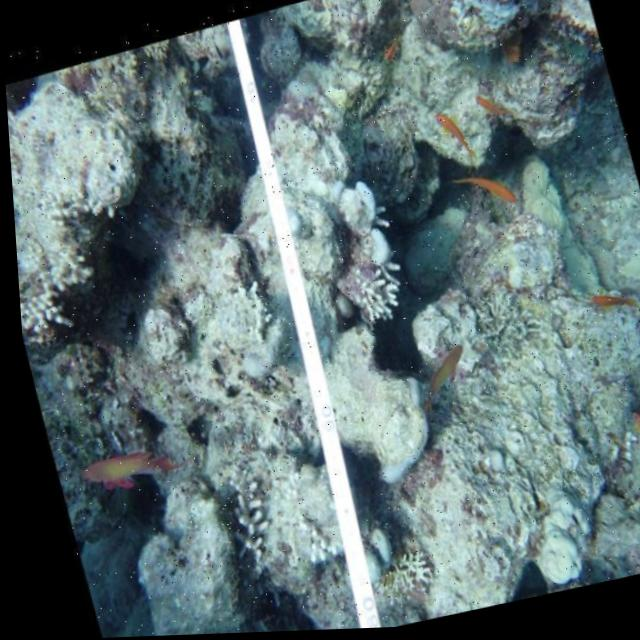Bleached Coral: (292, 148, 415, 284), (200, 436, 302, 587), (452, 269, 561, 378), (11, 211, 113, 318), (328, 239, 415, 347), (360, 521, 442, 612), (441, 0, 553, 61)
